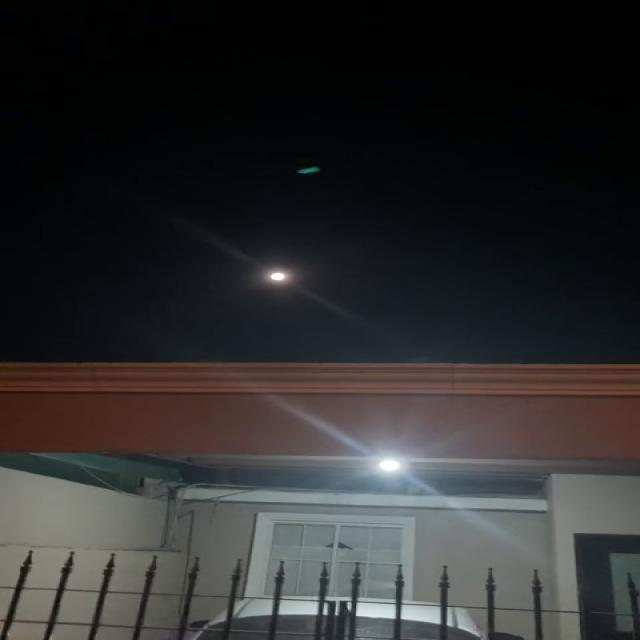moon: (263, 266, 297, 283)
